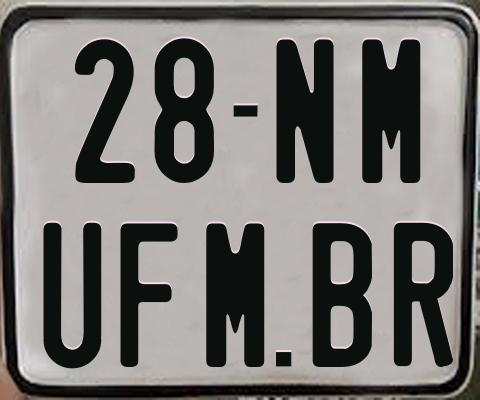2: (72, 39, 134, 188)
8: (154, 35, 215, 184)
B: (309, 223, 373, 371)
F: (117, 222, 177, 368)
M: (204, 221, 268, 370), (359, 38, 423, 183)
N: (275, 37, 335, 181)
R: (393, 223, 453, 368)
U: (41, 223, 105, 374)
